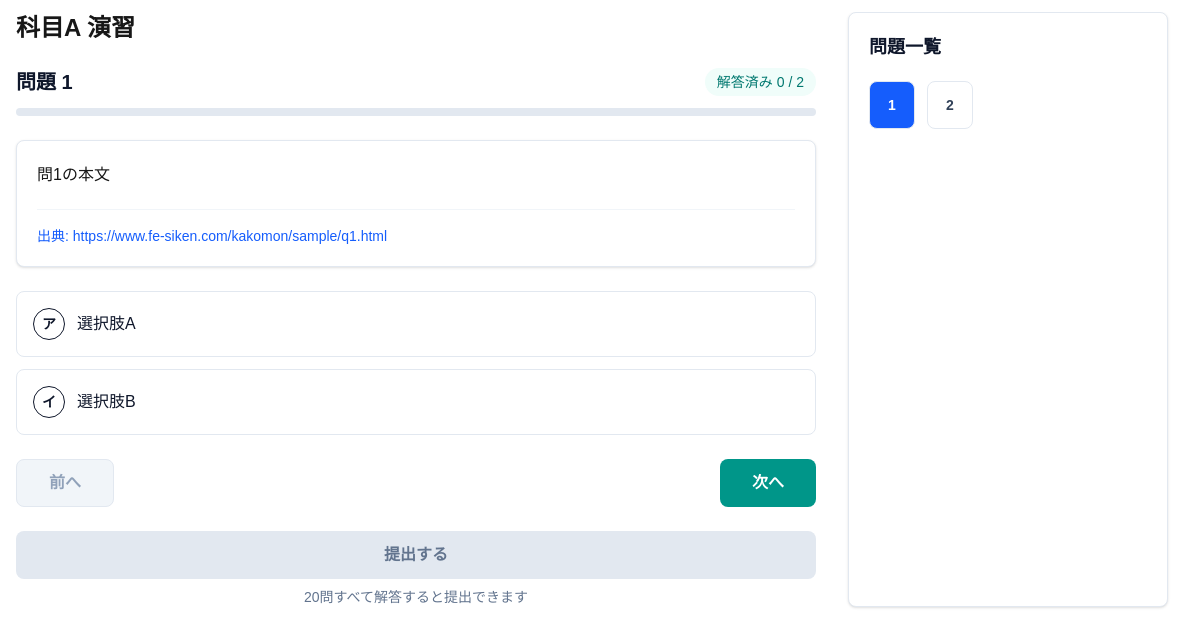
Scenario: QuizActiveView › selects an answer, updates progress, and moves to the next question
Check: the text "問1の本文" is shown, box [37, 166, 110, 183]
Click the button "ア 選択肢A".
click(49, 324)  # box [16, 291, 816, 357]
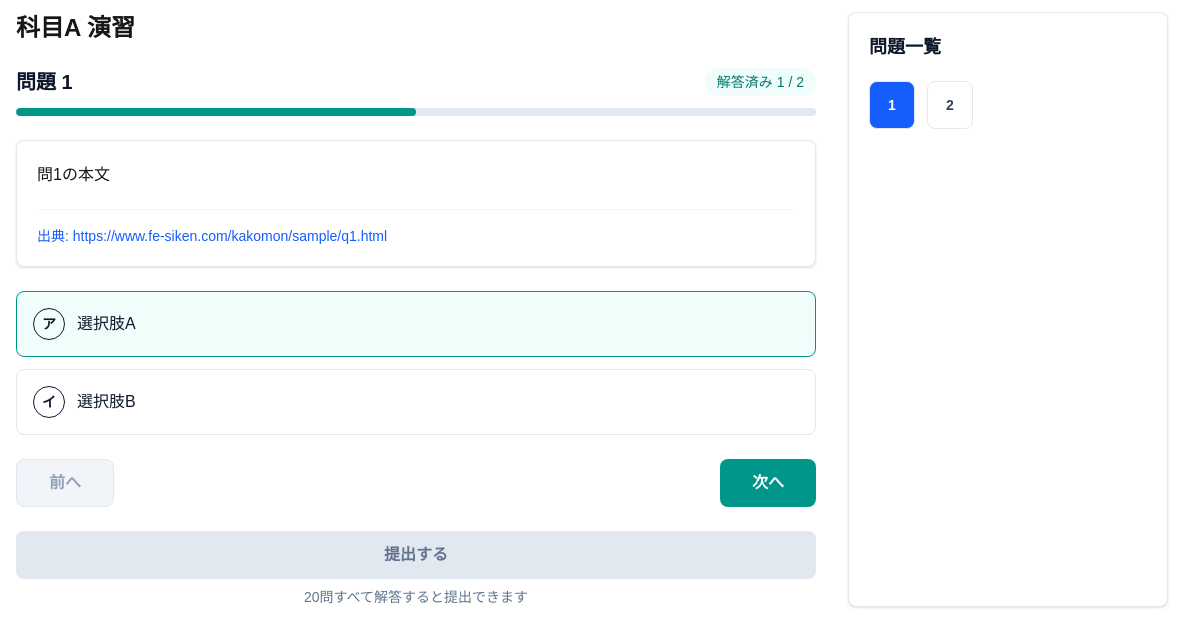
Check: the text "解答済み 1 / 2" is shown, box [705, 68, 816, 96]
Click the button "次へ".
click(768, 483)  # box [720, 459, 816, 507]
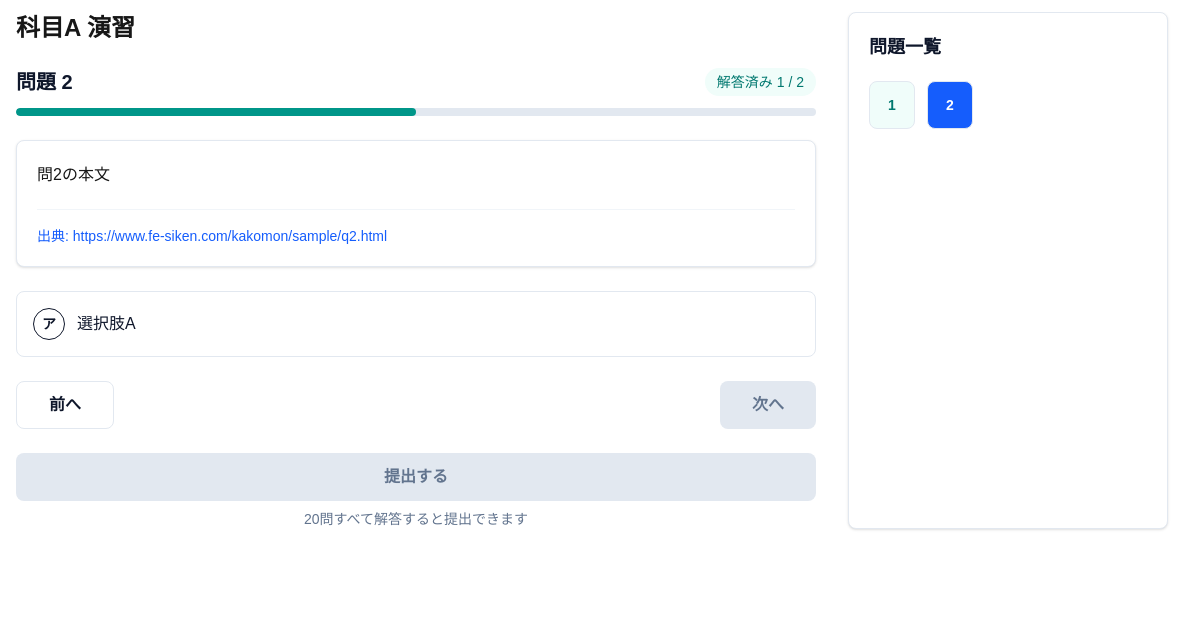
Check: the text "問2の本文" is shown, box [37, 166, 110, 183]
Check: the heading "問題 2" is shown, box [16, 68, 73, 96]
